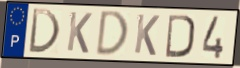4: (202, 15, 225, 60)
D: (94, 10, 130, 58), (27, 7, 62, 55), (164, 13, 196, 59)
K: (133, 12, 162, 58), (65, 10, 94, 55)
